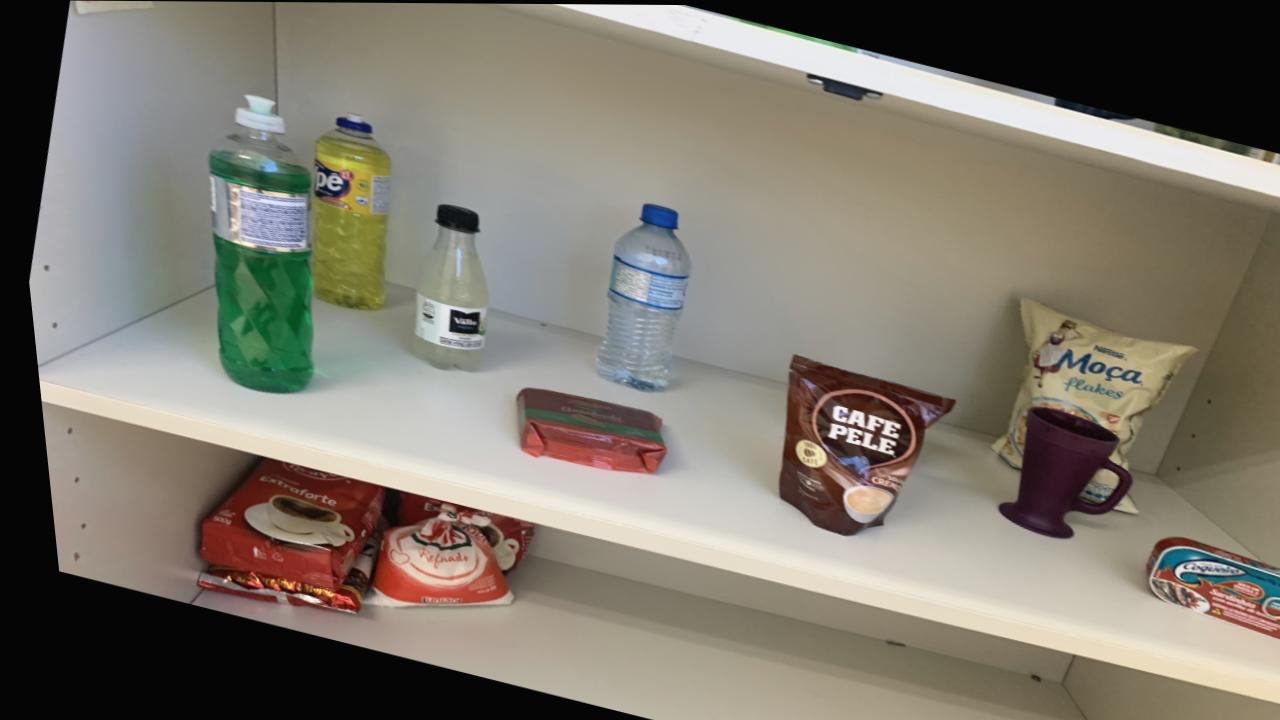Coffee-Pantry_Items: (768, 354, 947, 535)
Detergent-Cleanup_Items: (205, 95, 308, 393), (306, 113, 389, 310)
Flakes-Snacks: (983, 297, 1188, 466)
Guava-Snacks: (508, 387, 658, 473)
Soda-Drinks: (404, 203, 483, 371)
Tuna_Can-Pantry_Items: (1135, 535, 1280, 641)
Water_Bottle-Drinks: (589, 203, 686, 391)
